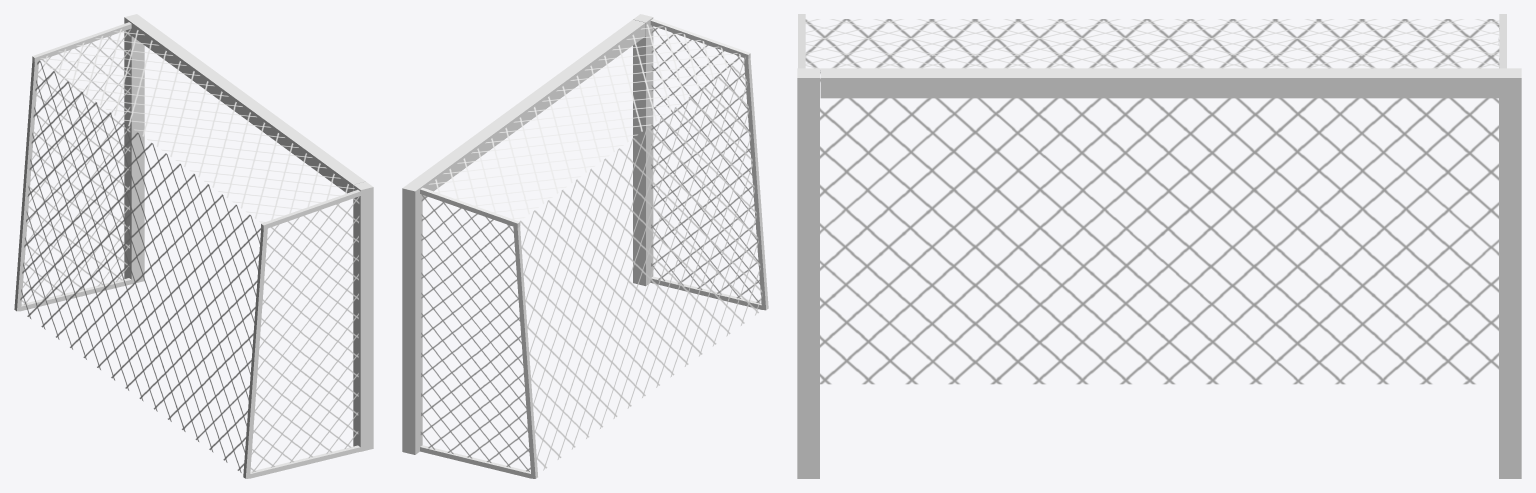
File: goal.glb
The picture shows the model from 3 angles, left to right: view 1: azimuth 30°, elevation 25°; view 2: azimuth 150°, elevation 25°; view 3: azimuth 270°, elevation 25°; orthographic projection. The views are drawn at different scales.
Visible parts, largest first — view 1: Goal; view 2: Goal; view 3: Goal.
Boxes of the visible parts, bbox=[...] form: Goal: bbox=[14, 14, 373, 478]; Goal: bbox=[402, 14, 768, 478]; Goal: bbox=[797, 14, 1521, 478].
Bounding box in the file's own units: 0.6531 × 1.28 × 2.1.
Materials: 2 (1 with a texture image).
